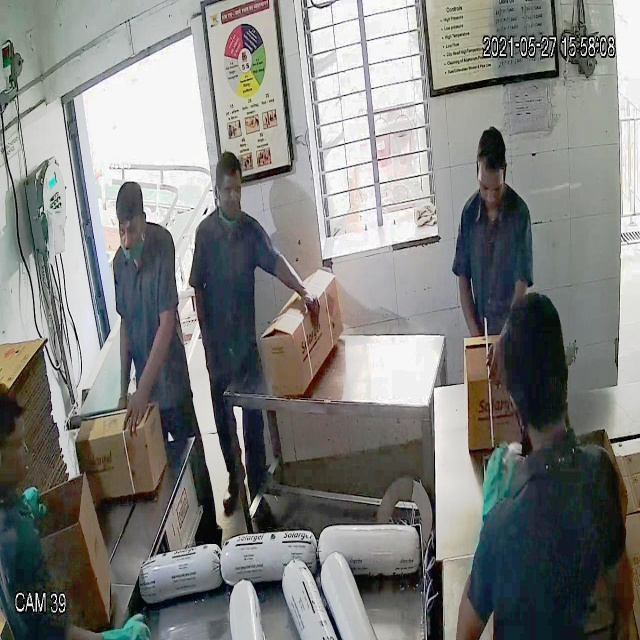Sin_gafas: (211, 172, 250, 204), (111, 217, 148, 245)
